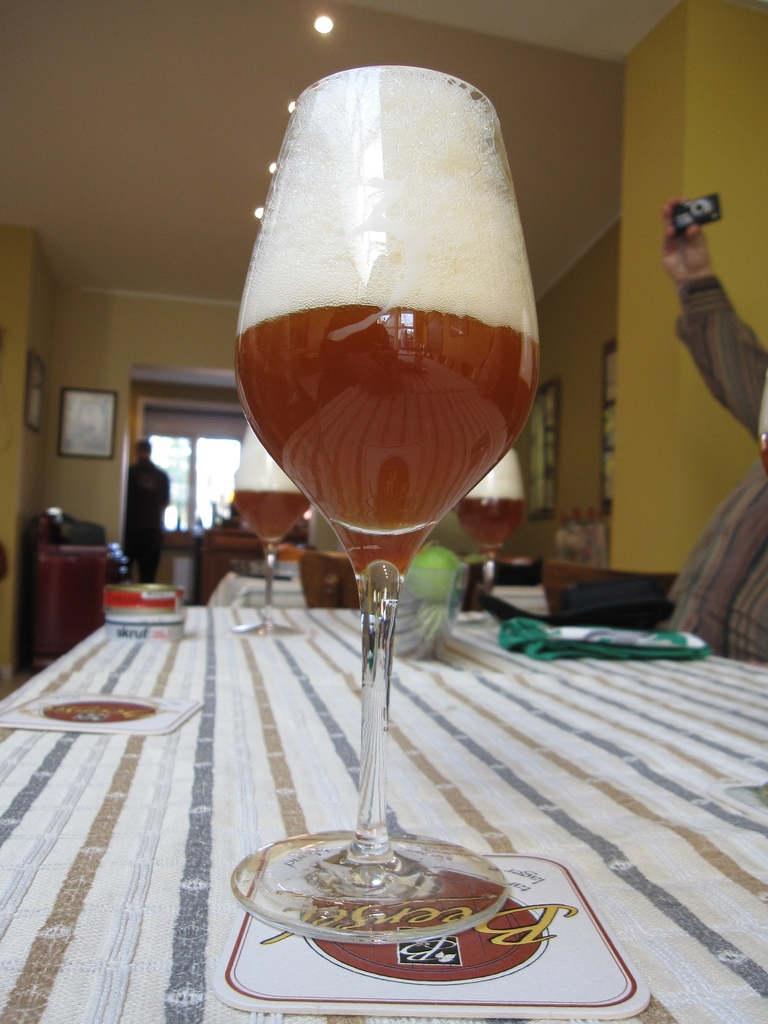Beer: (234, 58, 542, 945)
